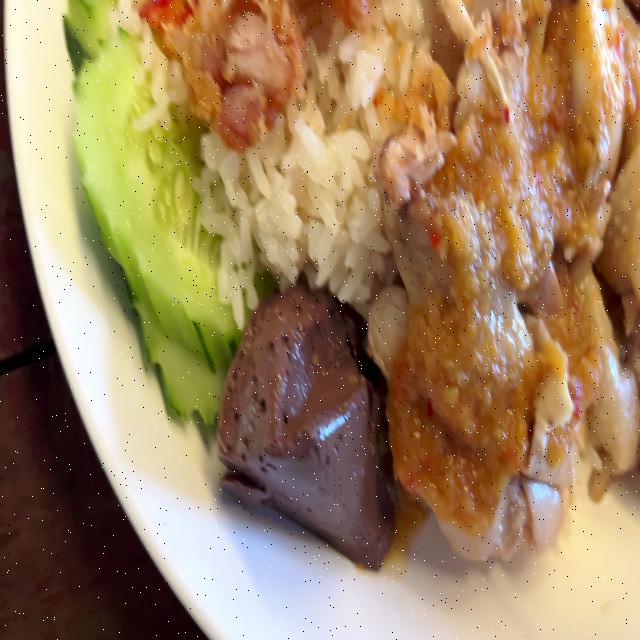boiled_chicken: (382, 0, 640, 532)
boiled_chicken_blood_jelly: (226, 280, 391, 556)
chicken_rice: (67, 0, 640, 571)
cucumber: (58, 0, 252, 431)
fried_chicken: (138, 0, 358, 149)
